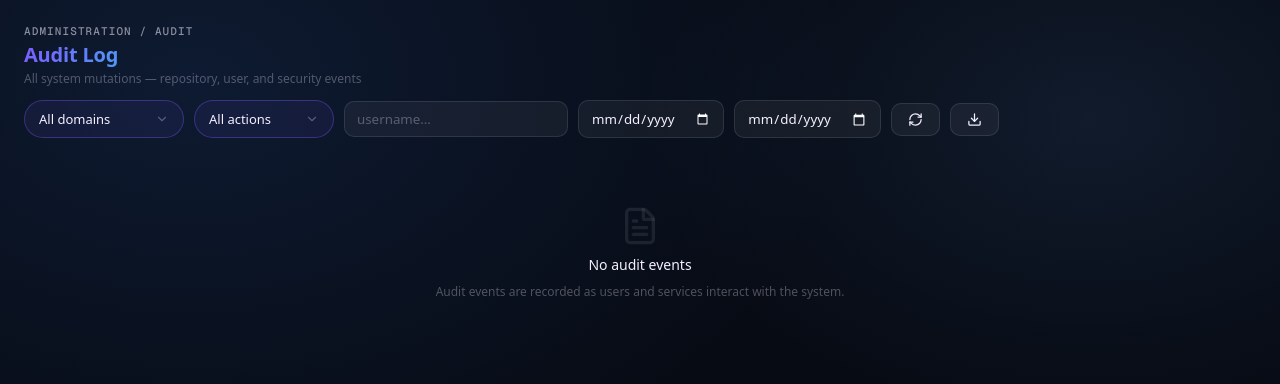
Test case: AuditPage › filters by username and resets offset
Check: the text "No audit events" is shown, box [588, 254, 692, 275]
In the field with placeholder "username…": [456, 119] box [344, 101, 568, 137], type "bob"
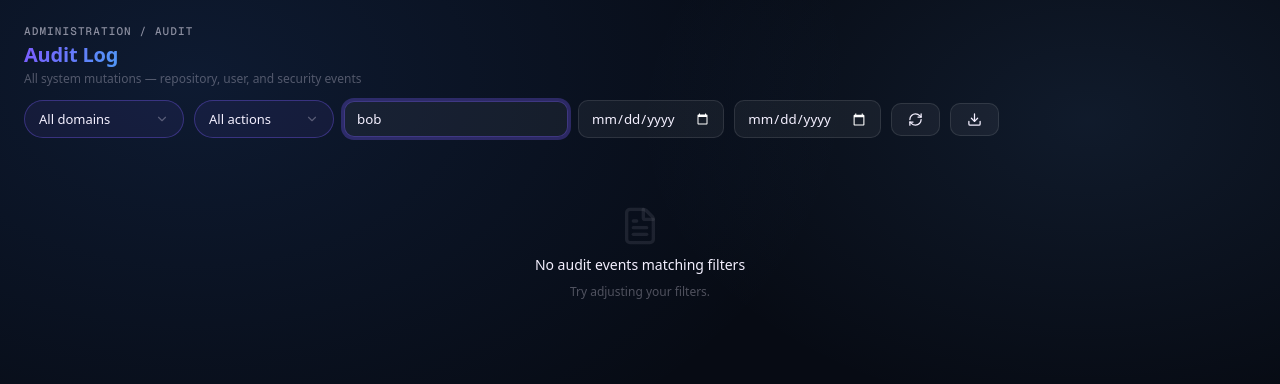
Check: the text "No audit events matching filters" is shown, box [535, 254, 745, 275]
